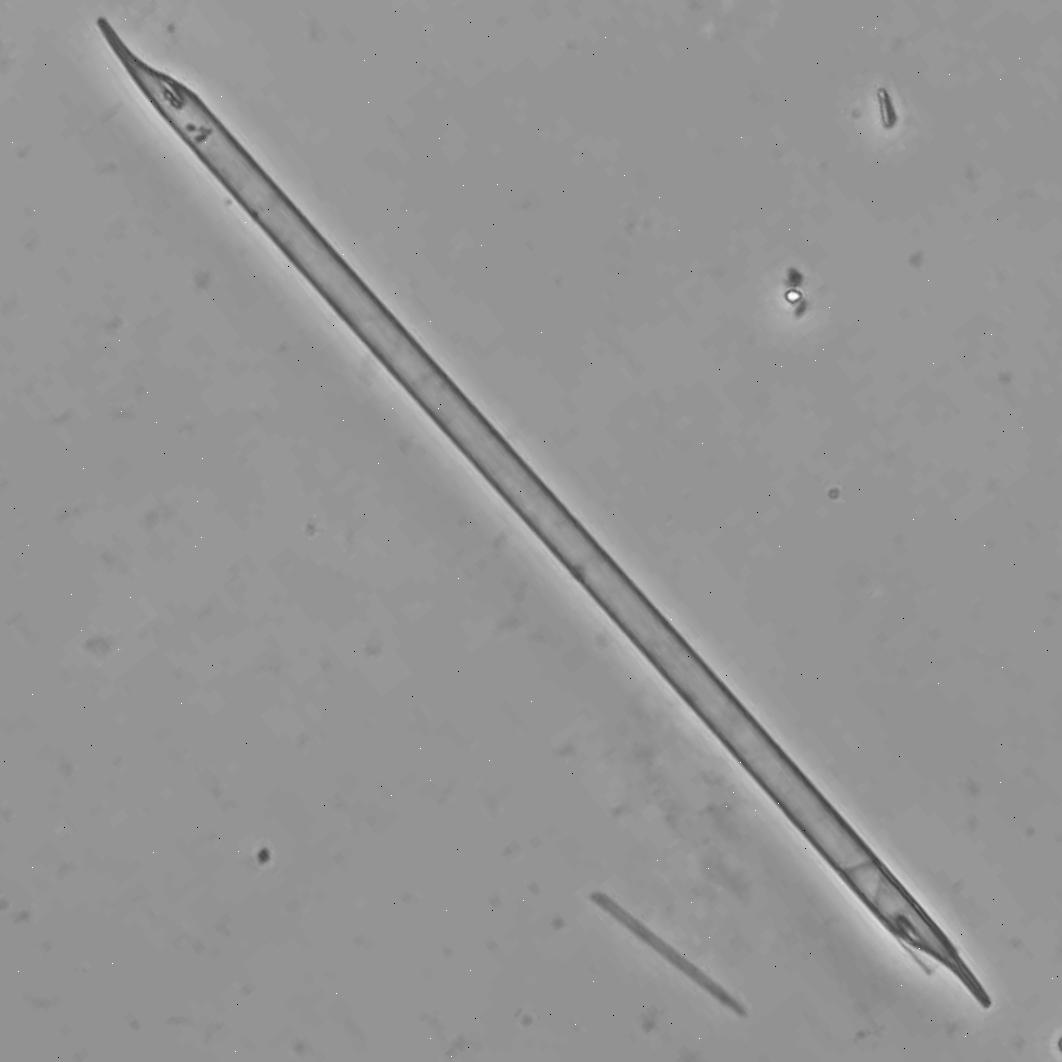proboscia_alata: (98, 19, 991, 1008)
